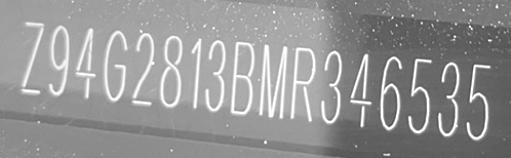letter: (256, 41, 288, 120), (406, 54, 435, 136), (286, 44, 316, 123), (465, 60, 493, 141), (18, 18, 46, 96), (129, 30, 157, 108), (347, 49, 374, 128), (228, 37, 255, 115), (317, 47, 344, 124), (103, 28, 129, 103), (73, 24, 98, 101), (159, 31, 183, 111), (436, 59, 460, 139), (378, 54, 402, 131), (203, 37, 227, 113), (47, 23, 71, 96), (189, 35, 203, 111)
